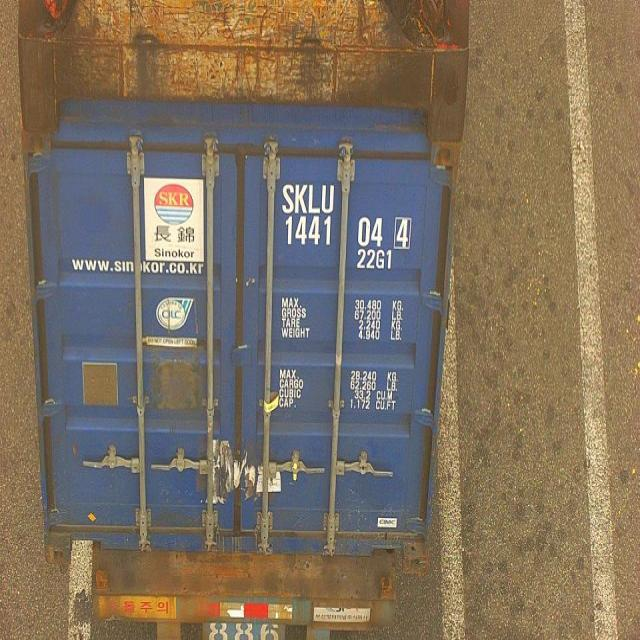ISO: (357, 250, 398, 272)
container_number: (286, 185, 414, 242)
